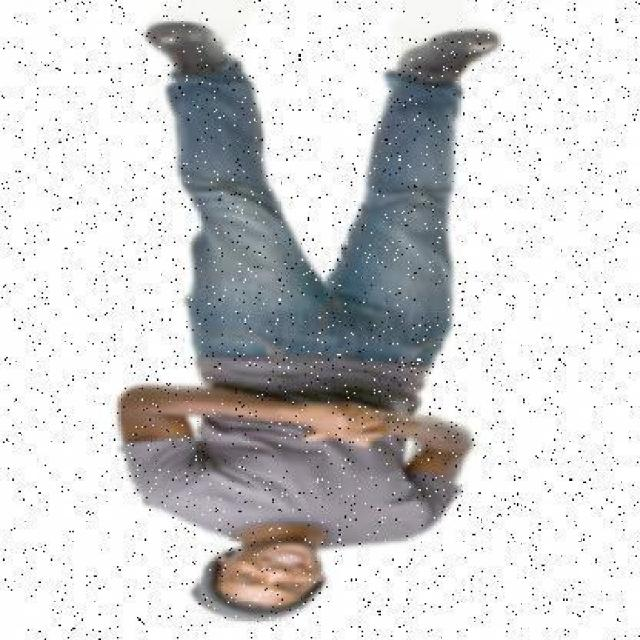person: (116, 19, 482, 623)
